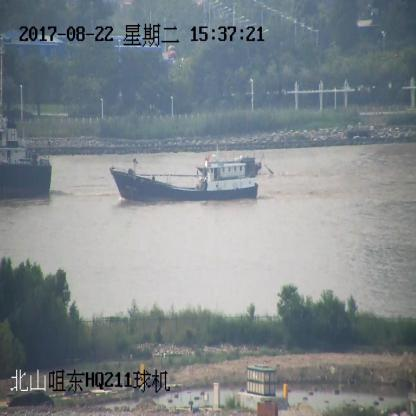Fishing Boat: (109, 158, 260, 202), (196, 155, 273, 179)
